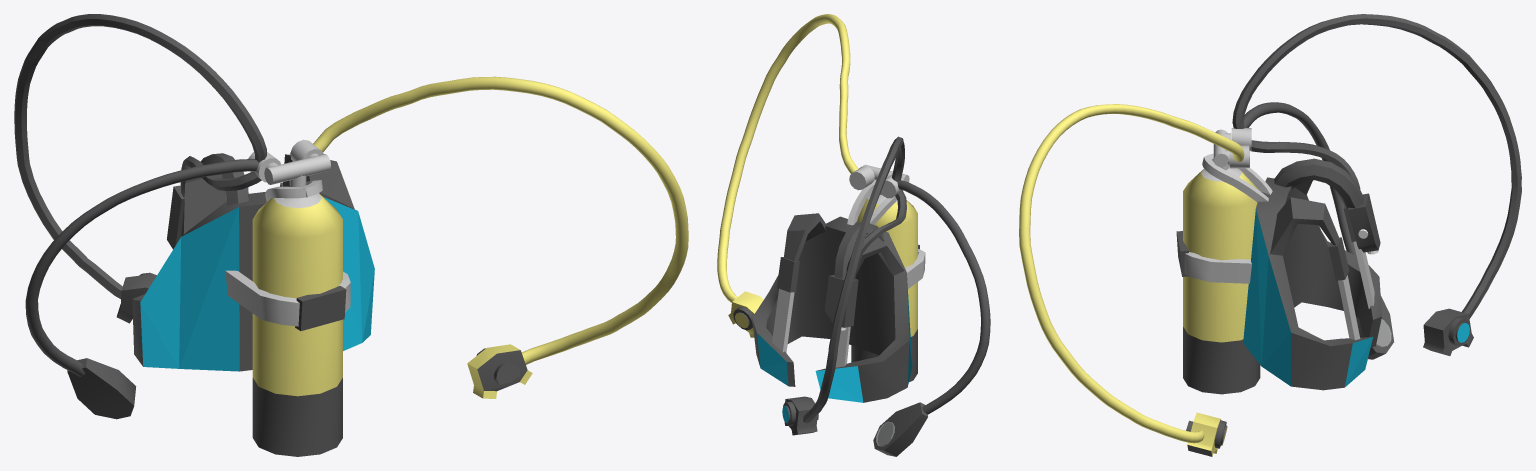
Rendered from scuba_equipment.glb.
3 views of the same model, side by side, from view 1: azimuth 30°, elevation 25°; view 2: azimuth 150°, elevation 25°; view 3: azimuth 270°, elevation 25° (orthographic). The views are drawn at different scales.
Visible parts, largest first — view 1: Object_5, Object_2, Object_7, Object_4; view 2: Object_5, Object_2, Object_4, Object_7, Object_6; view 3: Object_5, Object_2, Object_7, Object_4.
Boxes of the visible parts, left/top/right/bottom form: Object_5: left=14, top=14, right=527, bottom=456; Object_2: left=252, top=76, right=688, bottom=398; Object_7: left=140, top=197, right=374, bottom=371; Object_4: left=225, top=139, right=350, bottom=326; Object_5: left=733, top=136, right=990, bottom=456; Object_2: left=717, top=14, right=917, bottom=337; Object_4: left=772, top=164, right=925, bottom=367; Object_7: left=757, top=278, right=912, bottom=422; Object_6: left=876, top=421, right=894, bottom=446; Object_5: left=1176, top=14, right=1521, bottom=456; Object_2: left=1019, top=104, right=1258, bottom=455; Object_7: left=1243, top=209, right=1469, bottom=386; Object_4: left=1184, top=128, right=1374, bottom=340.
Size of the model in its own units: 1.77 by 1.39 by 1.82.
